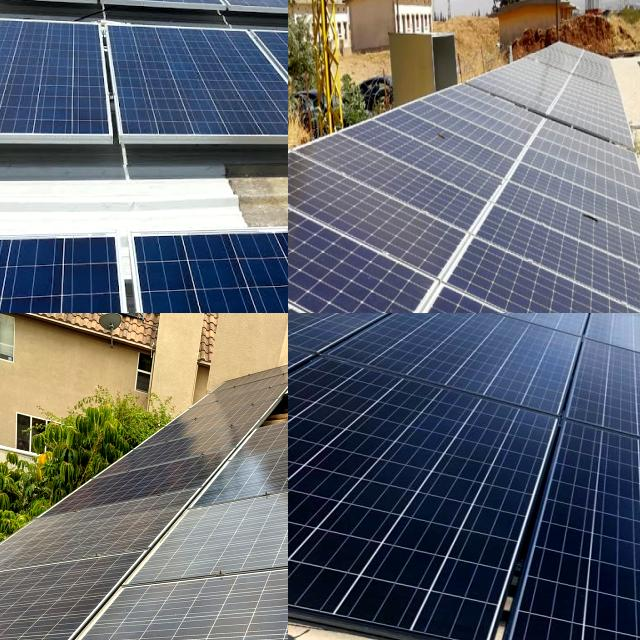crack: (306, 313, 640, 453), (91, 5, 288, 184), (288, 126, 488, 295), (302, 96, 489, 262), (442, 170, 640, 313), (344, 90, 523, 240), (288, 165, 461, 313), (531, 406, 640, 640), (492, 158, 640, 308), (0, 7, 126, 168), (439, 216, 640, 313), (0, 225, 220, 313), (407, 313, 640, 380), (544, 313, 640, 467), (458, 313, 640, 363), (84, 0, 237, 37), (188, 0, 288, 46), (0, 0, 105, 41)
dust: (133, 580, 216, 640)
